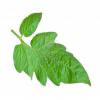Tomato leaf: (9, 31, 95, 91), (19, 9, 46, 37)
